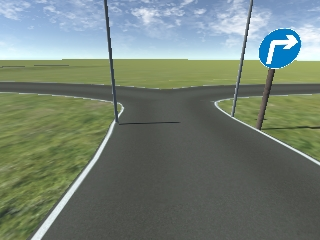right: (256, 29, 300, 69)
